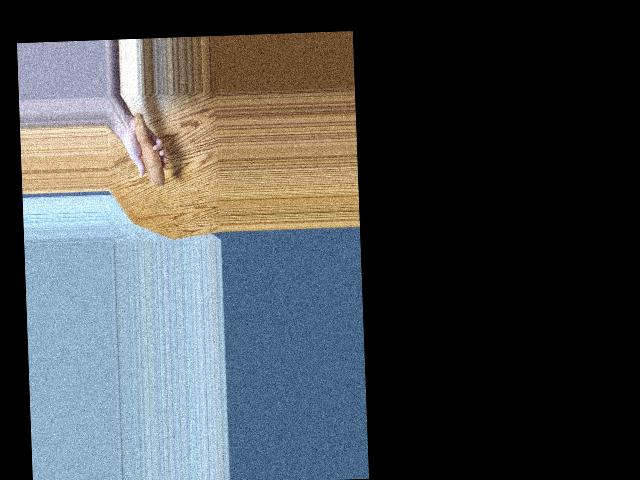sweet_potato: (133, 104, 167, 187)
